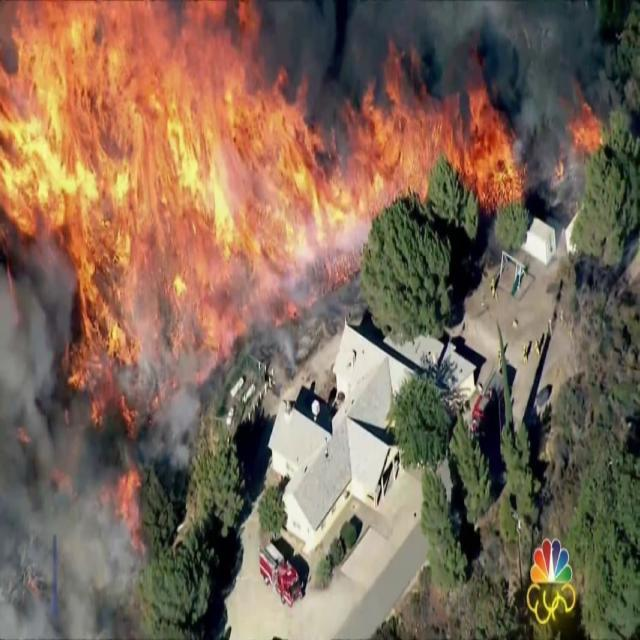Fire: (1, 1, 618, 589)
Smoke: (0, 227, 157, 640), (117, 287, 220, 465), (511, 0, 592, 205)
